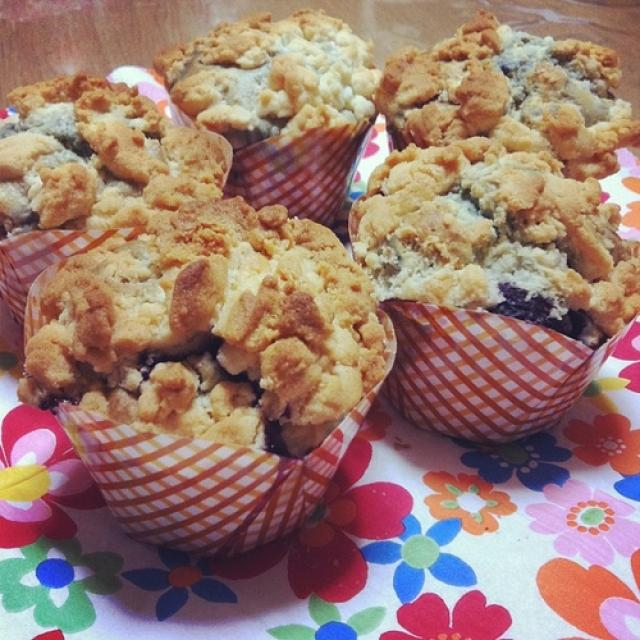炸货点心: (4, 8, 635, 616)
面包点心: (4, 8, 635, 616)
